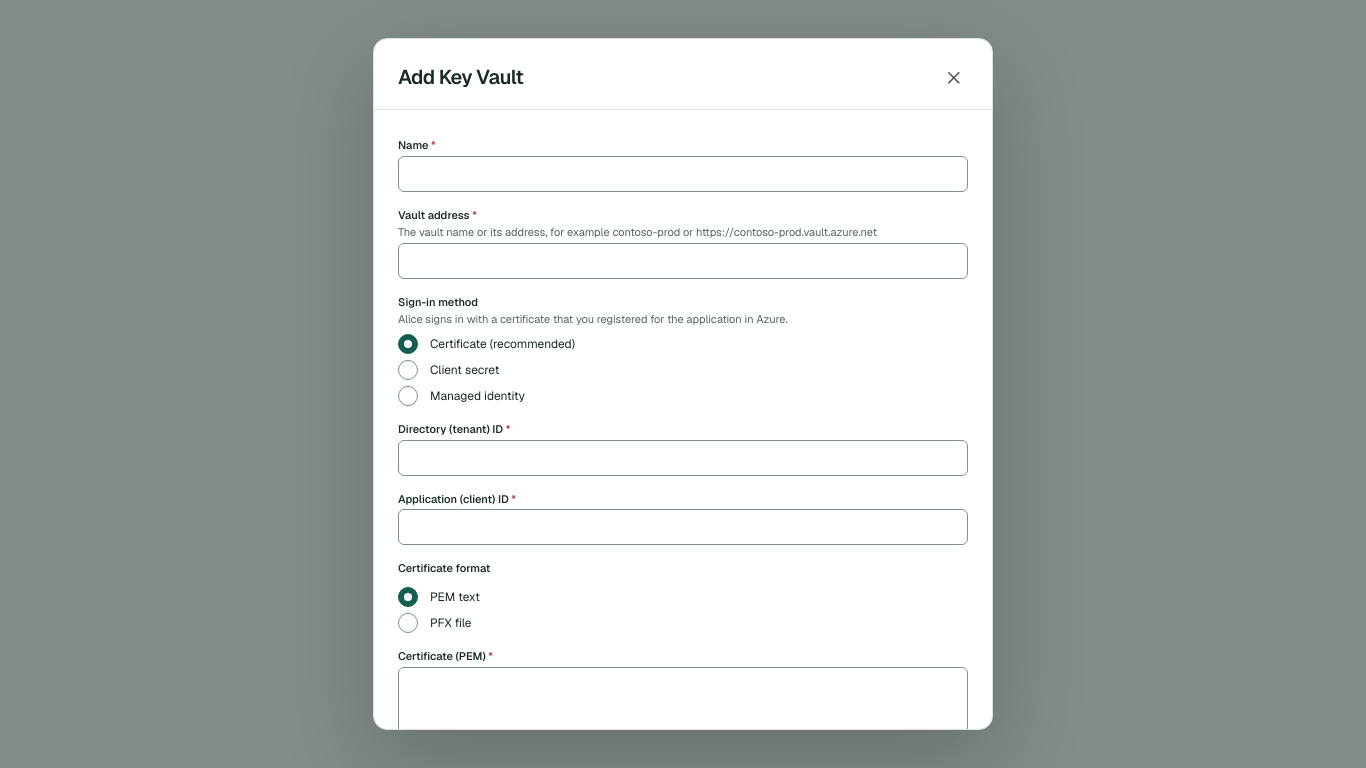
it: AddKeyVaultDialog › a managed identity hides the tenant and the secret and shows the optional client ID
In the field labelled "Name *": point(683, 174) [398,156,968,192], type "Prod vault"
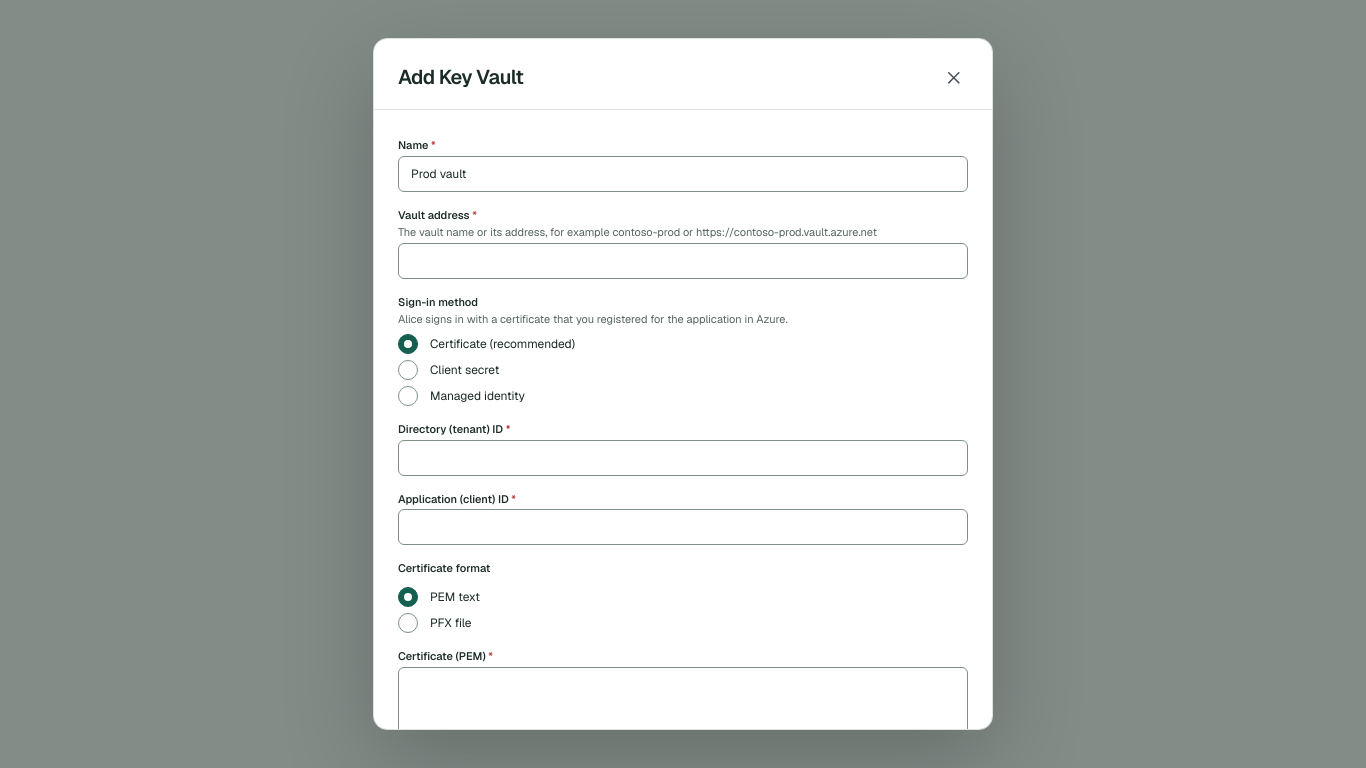
In the field labelled "Vault address *": point(683, 261) [398,243,968,279], type "contoso-prod"
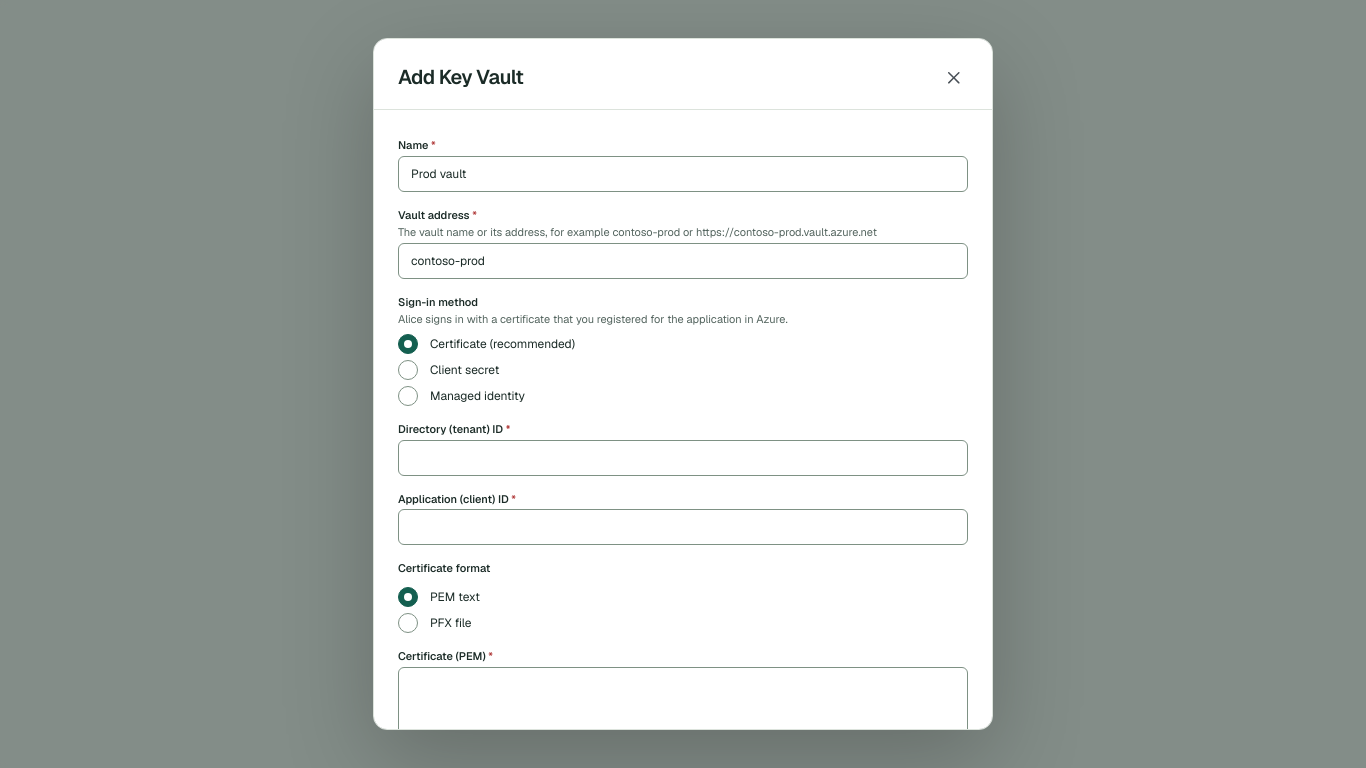
Click the radio button labelled "Managed identity": point(408, 396) [398,386,418,406]
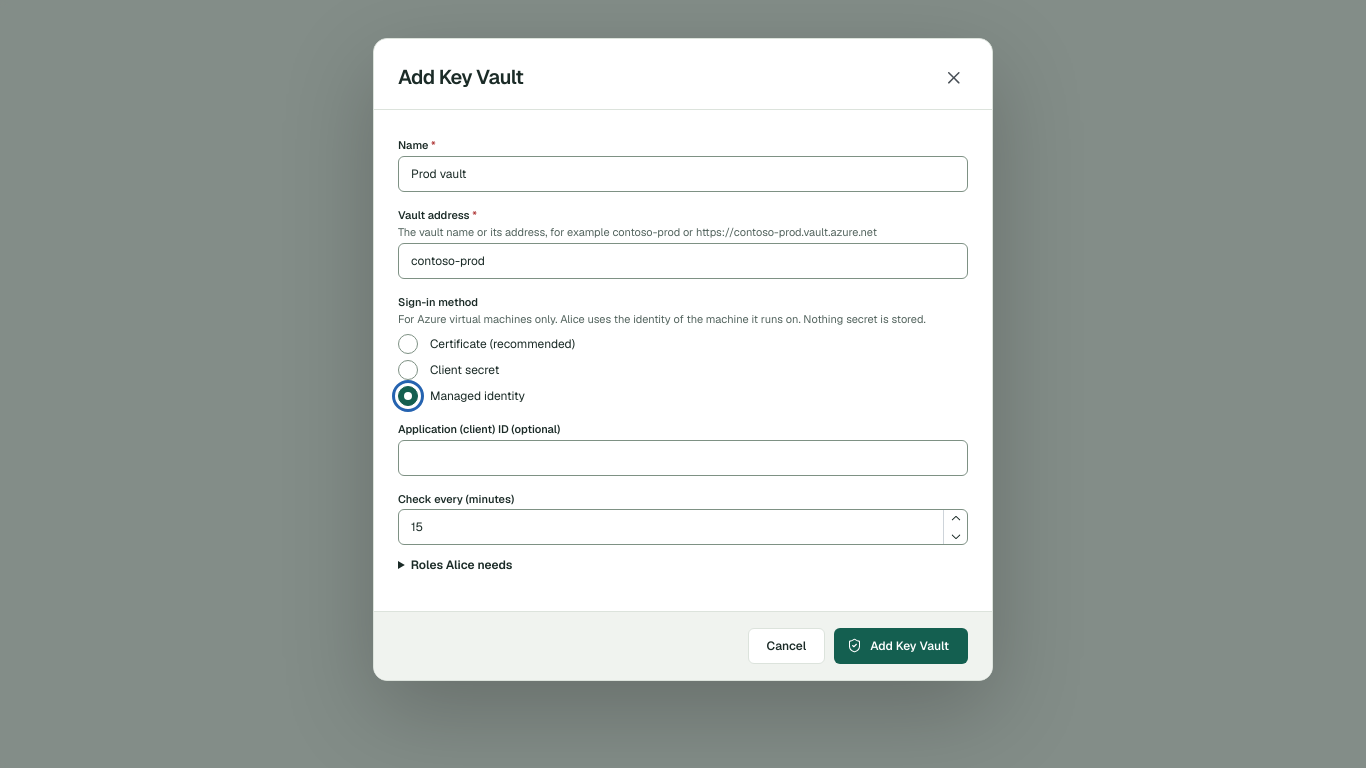
Expected: the field labelled "Application (client) ID (optional)" is shown, [398,440,968,476]
Result: the label labelled "Directory (tenant) ID" is gone
Click the button "Add Key Vault": point(901, 646) [834,628,968,664]
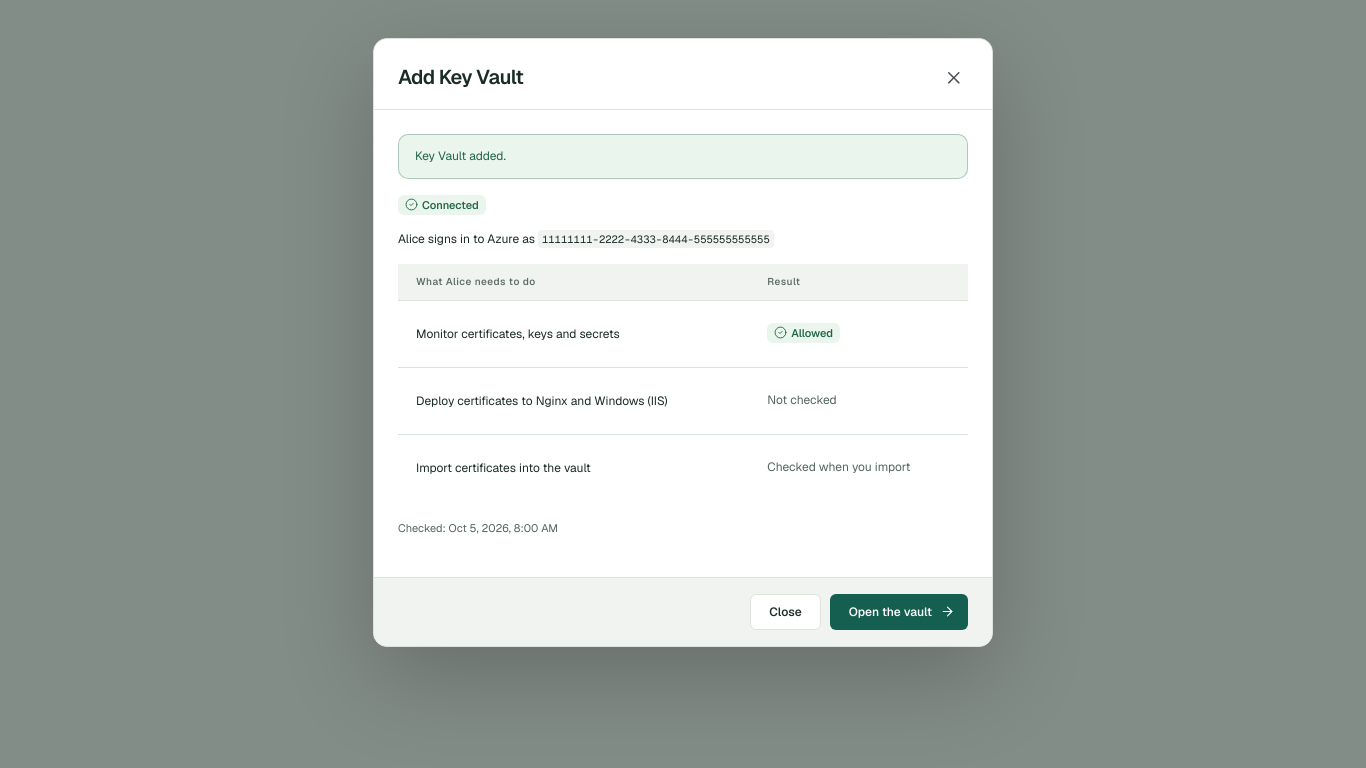
Result: the text "Key Vault added." is shown at [415,148,506,164]
